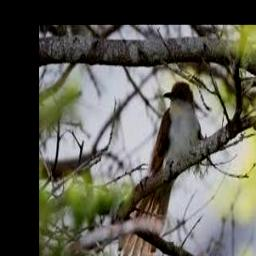Cuckoo: (117, 80, 202, 256)
